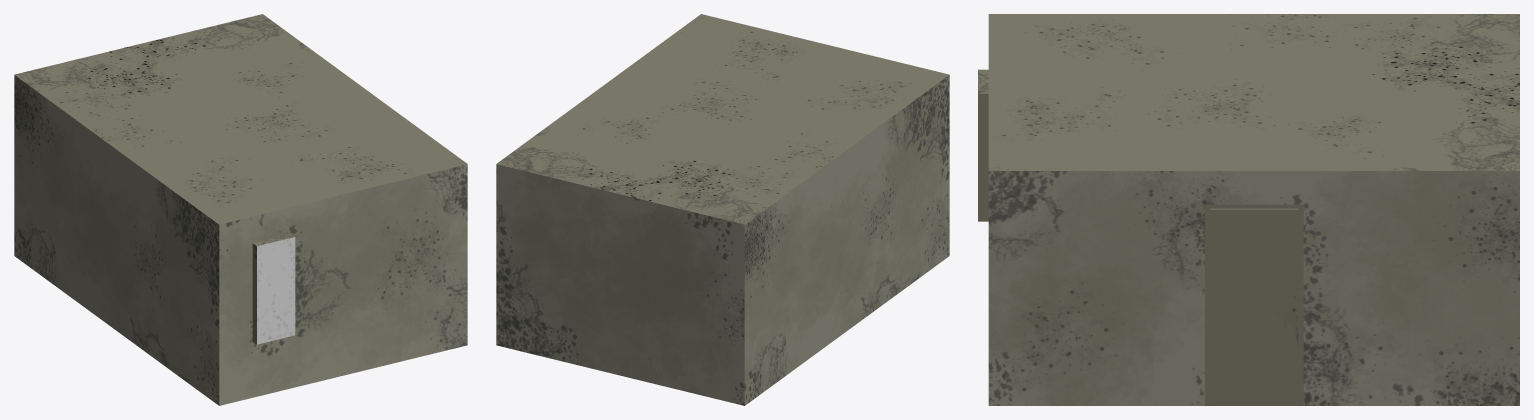
The model's file is 6VR ROOM.fbx.
3 views of the same model, side by side, from view 1: azimuth 30°, elevation 25°; view 2: azimuth 150°, elevation 25°; view 3: azimuth 270°, elevation 25° (orthographic). The views are drawn at different scales.
Visible parts, largest first — view 1: Cube, Cube.001; view 2: Cube; view 3: Cube.
Boxes of the visible parts, box(x1,y1,x2,y2) form: Cube: box(14, 14, 467, 405); Cube.001: box(257, 237, 295, 344); Cube: box(496, 14, 949, 405); Cube: box(978, 14, 1519, 405).
Size of the model in its own units: 350 by 244 by 510.
7 materials, 6 textured.
